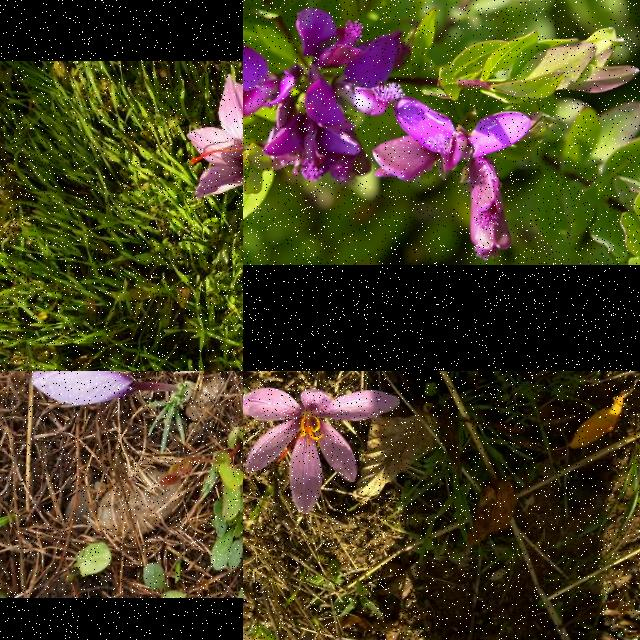flower: (243, 387, 400, 514), (187, 74, 243, 208), (33, 371, 147, 406)
